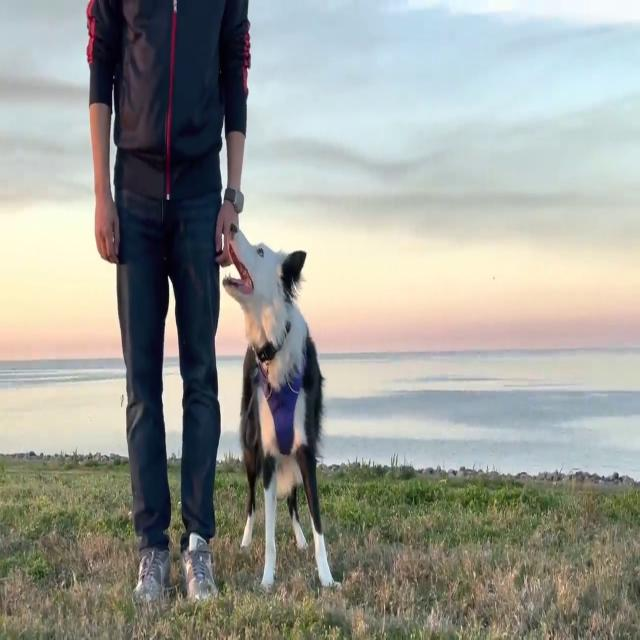Unleashed_Dog: (167, 224, 336, 588)
